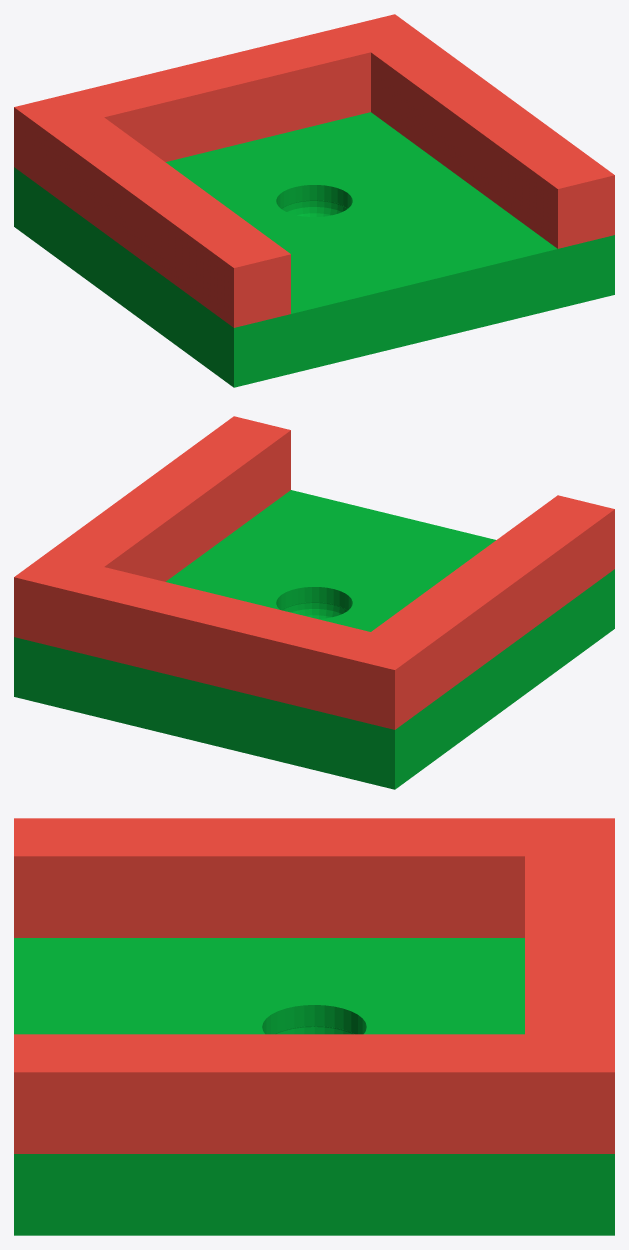
File: hole_end.fbx
The picture shows the model from 3 angles, top to bottom: view 1: azimuth 30°, elevation 25°; view 2: azimuth 150°, elevation 25°; view 3: azimuth 270°, elevation 25°; orthographic projection. The views are drawn at different scales.
Visible parts, largest first — view 1: Green, Cube, Cube.001, Cube.002; view 2: Green, Cube.001, Cube, Cube.002; view 3: Green, Cube.002, Cube, Cube.001.
Boxes of the visible parts, bbox=[...] form: Green: bbox=[14, 112, 614, 387]; Cube: bbox=[14, 108, 290, 327]; Cube.001: bbox=[14, 14, 427, 161]; Cube.002: bbox=[371, 38, 614, 248]; Green: bbox=[14, 490, 614, 789]; Cube.001: bbox=[14, 553, 427, 729]; Cube: bbox=[338, 495, 614, 729]; Cube.002: bbox=[14, 416, 290, 645]; Green: bbox=[14, 938, 614, 1235]; Cube.002: bbox=[14, 1034, 614, 1153]; Cube: bbox=[14, 818, 524, 937]; Cube.001: bbox=[525, 818, 614, 1153].
Bounding box in the file's own units: 200 × 60 × 200.
